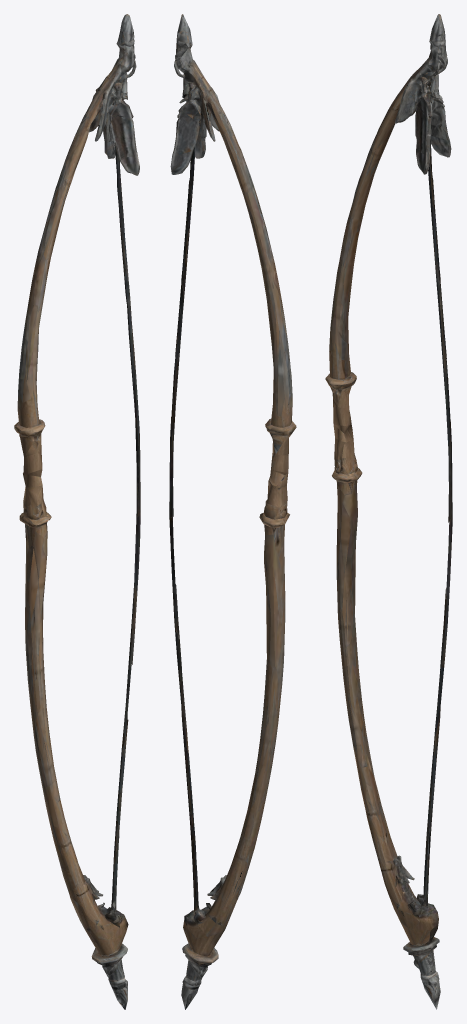
Rendered from weapon-bow.glb.
3 views of the same model, side by side, from view 1: azimuth 30°, elevation 25°; view 2: azimuth 150°, elevation 25°; view 3: azimuth 330°, elevation 25° (orthographic).
Size of the model in its own units: 0.111 by 0.8507 by 0.0386.
1 material, 1 textured.
